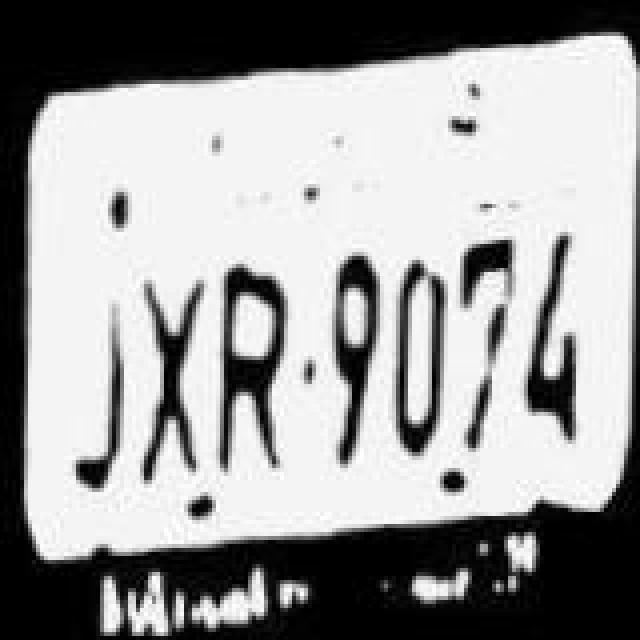4: (518, 210, 598, 446)
7: (444, 216, 520, 464)
9: (314, 244, 390, 484)
J: (66, 276, 134, 516)
O: (382, 238, 450, 462)
R: (210, 252, 302, 500)
X: (130, 270, 214, 502)
